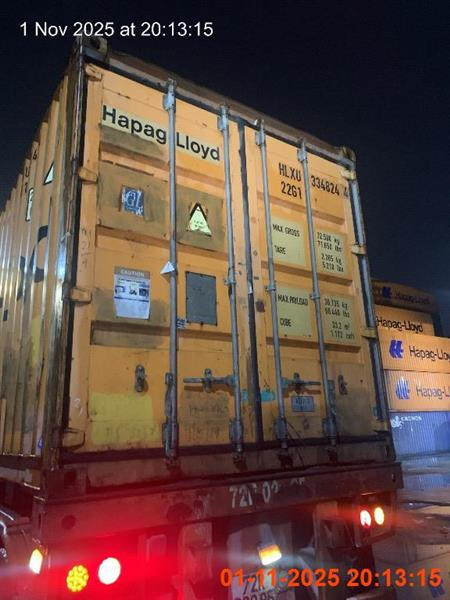broken: (0, 32, 407, 599)
